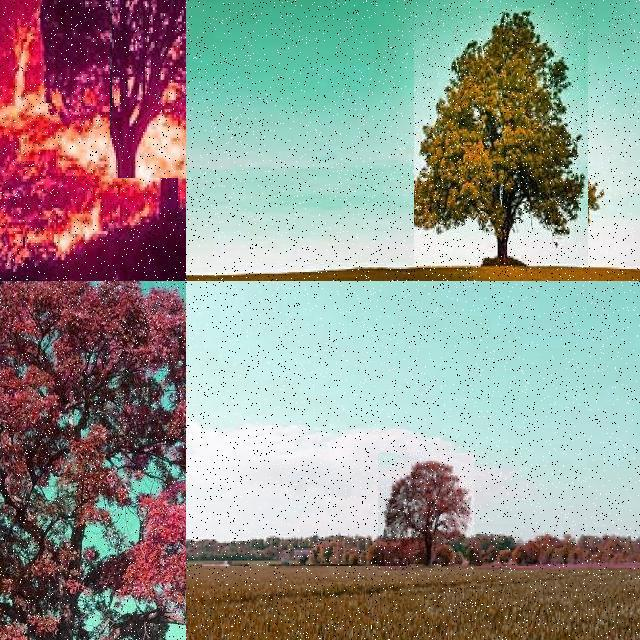tree: (0, 280, 186, 640), (414, 8, 588, 268), (40, 0, 186, 216), (110, 0, 186, 178), (378, 453, 474, 571)
